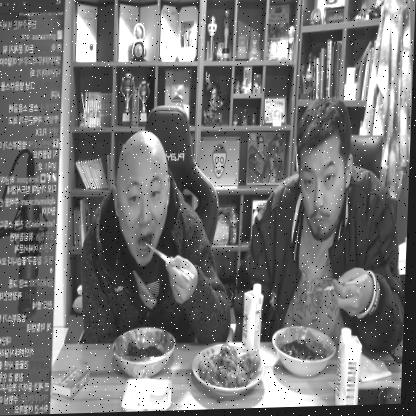streamer: (237, 98, 413, 359), (82, 130, 239, 347)
